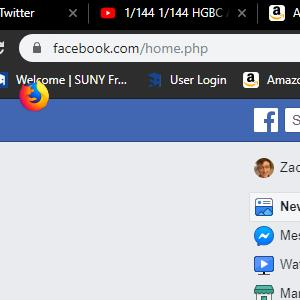firefox: (19, 81, 49, 112)
